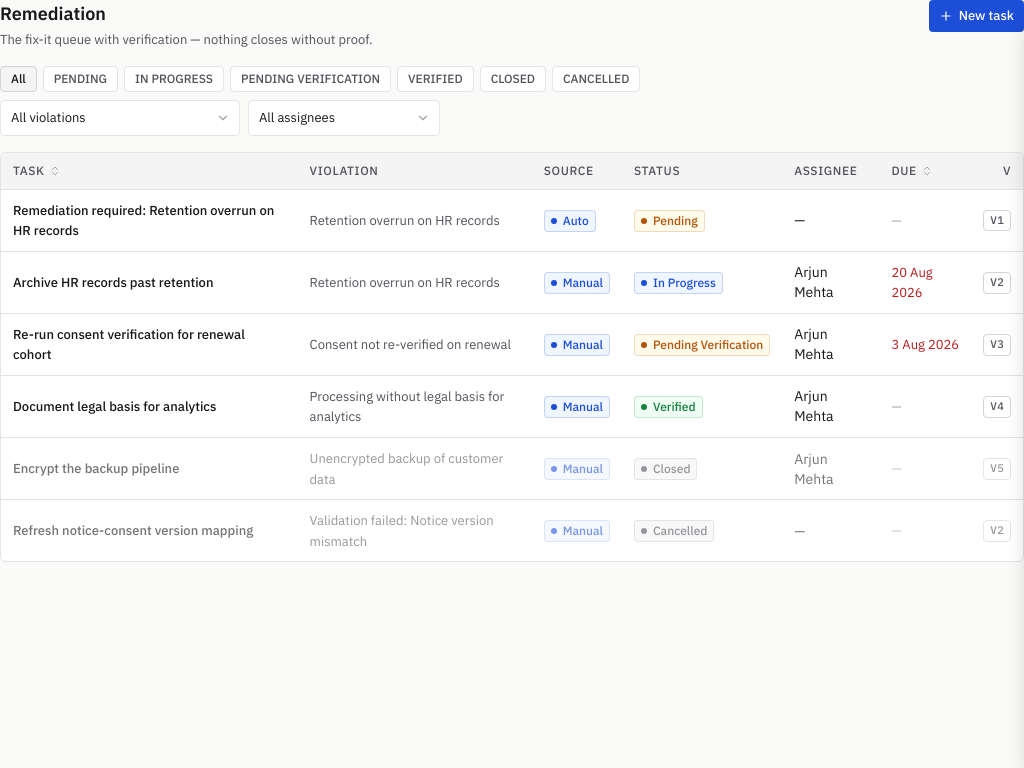
Test case: RemediationView (§9.9) › opens the detail drawer with the stepper and status-gated actions (PENDING)
Click the text "Remediation required: Retention overrun on HR records" at {"x": 144, "y": 210}, box [13, 202, 274, 239]
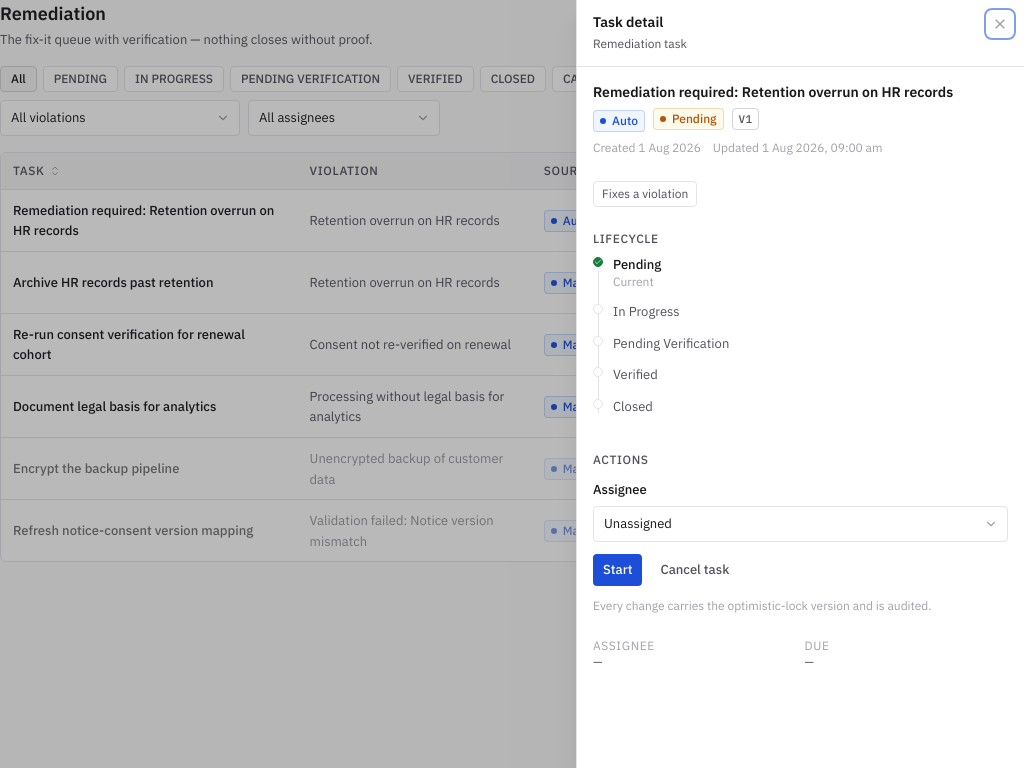
Expected: the text "Current" is shown, [613, 274, 654, 289]
Expected: the button "Start" is shown, [593, 554, 642, 586]
Expected: the button "Cancel task" is shown, [650, 554, 739, 586]
